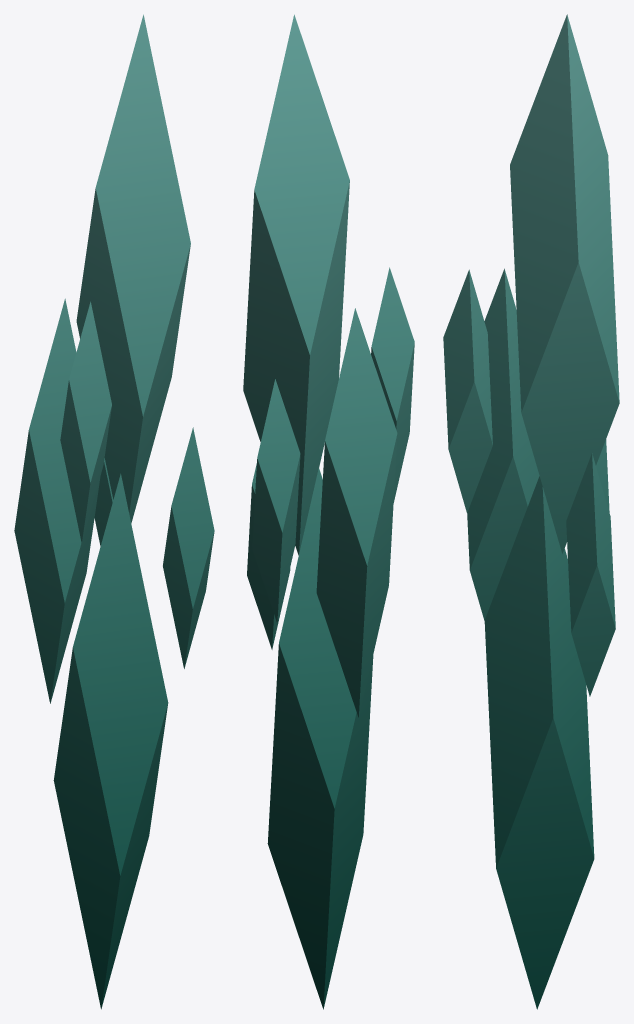
The model's file is Monu 1.fbx.
3 renders of one model, left to right at view 1: azimuth 30°, elevation 25°; view 2: azimuth 150°, elevation 25°; view 3: azimuth 330°, elevation 25°, orthographic. The views are drawn at different scales.
Visible parts, largest first — view 1: Monu 1; view 2: Monu 1; view 3: Monu 1.
Part boxes in pixels (left/top/right/bottom): Monu 1: left=14, top=14, right=214, bottom=1009; Monu 1: left=243, top=14, right=414, bottom=1009; Monu 1: left=443, top=14, right=619, bottom=1009.
Bounding box in the file's own units: 34.89 × 201 × 24.64.
